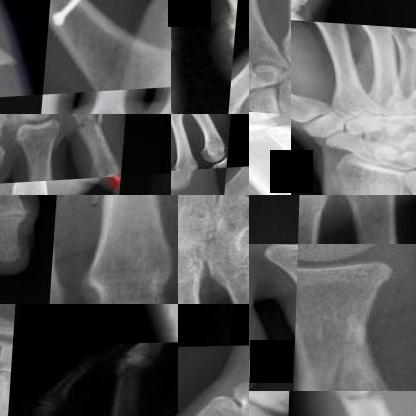fracture: (295, 323, 407, 390), (51, 0, 115, 51), (323, 391, 386, 415), (73, 114, 110, 146), (403, 29, 415, 63), (106, 179, 125, 194), (276, 0, 291, 17)
